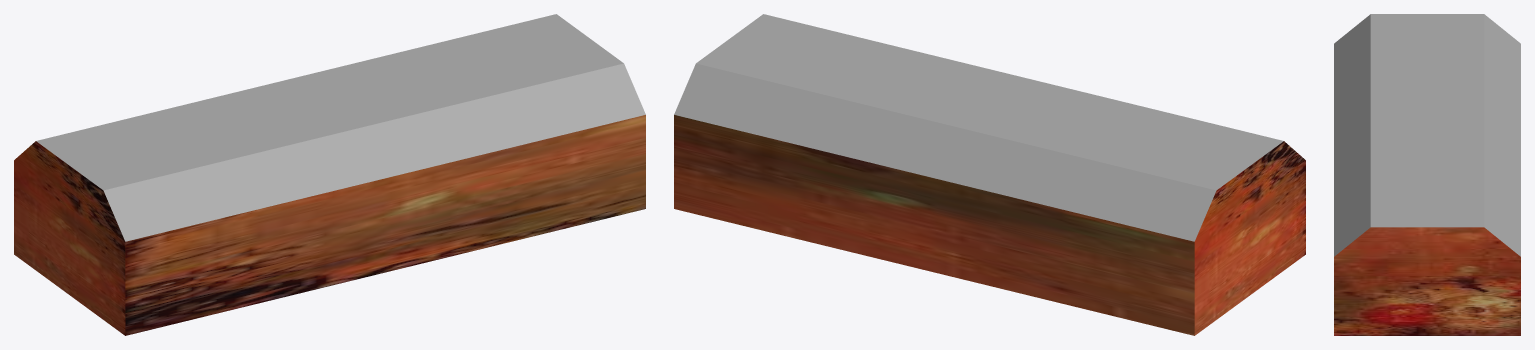
Rendered from BumpWall.fbx.
3 renders of one model, left to right at view 1: azimuth 30°, elevation 25°; view 2: azimuth 150°, elevation 25°; view 3: azimuth 270°, elevation 25°, orthographic. The views are drawn at different scales.
Parts seen in each view (by area): view 1: pCube8; view 2: pCube8; view 3: pCube8.
Part boxes in pixels (bbox=[...]): pCube8: bbox=[14, 14, 645, 335]; pCube8: bbox=[674, 14, 1305, 335]; pCube8: bbox=[1334, 14, 1520, 335].
Size of the model in its own units: 840 by 200 by 311.
Materials: 3 (1 with a texture image).
